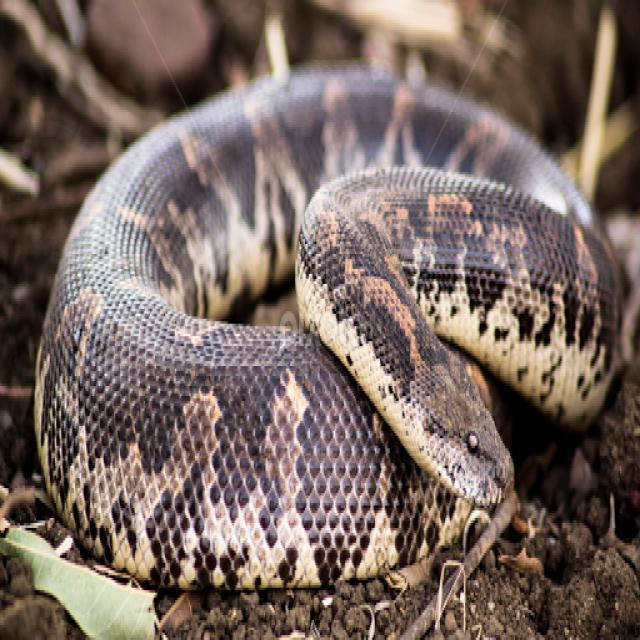Snake: (31, 57, 631, 593)
